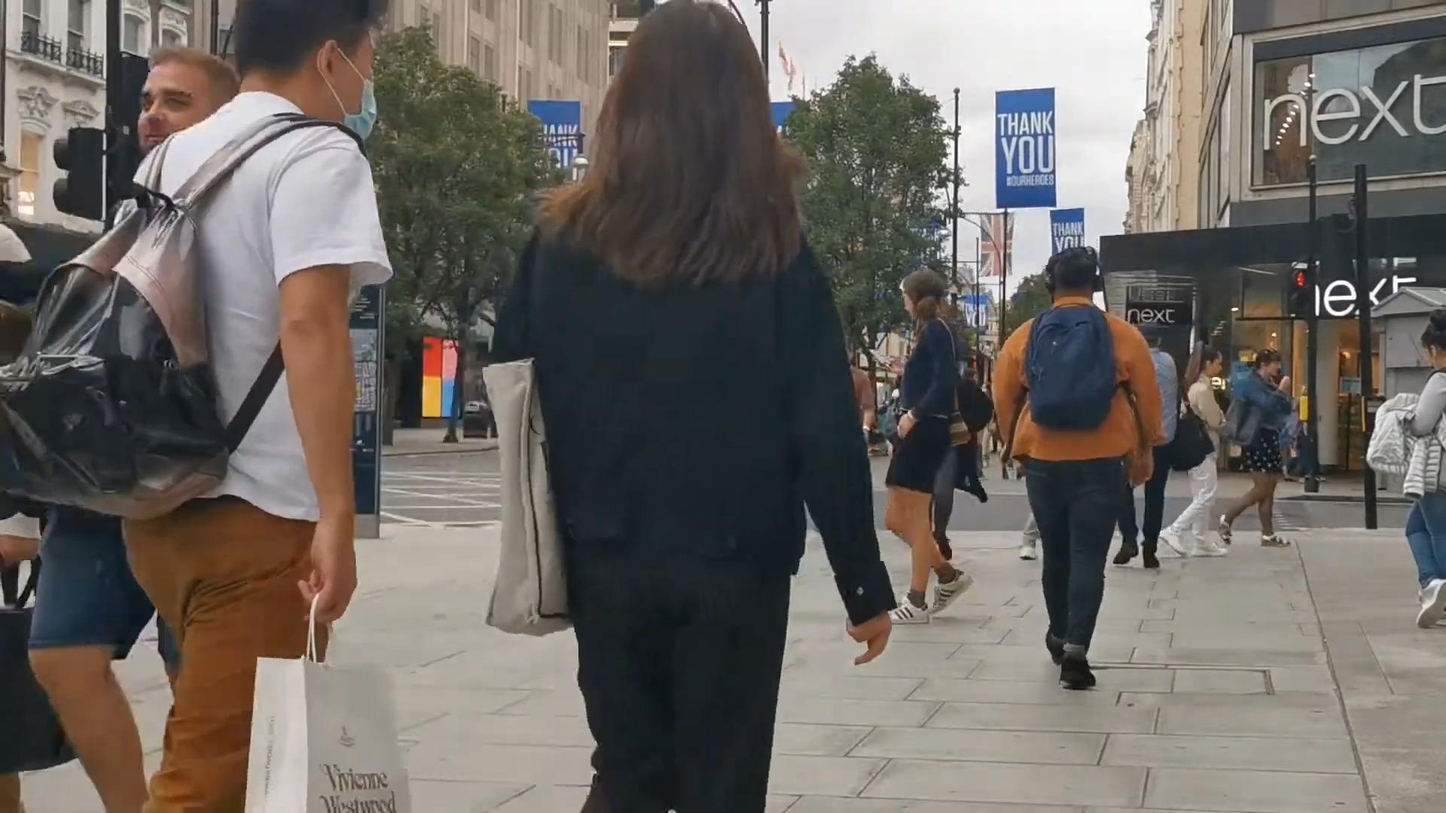no-helmet: (590, 0, 787, 195), (234, 0, 391, 143), (137, 44, 241, 158), (1044, 246, 1103, 301), (900, 269, 944, 324), (1420, 308, 1446, 370), (1186, 340, 1223, 378), (1247, 347, 1282, 380)
